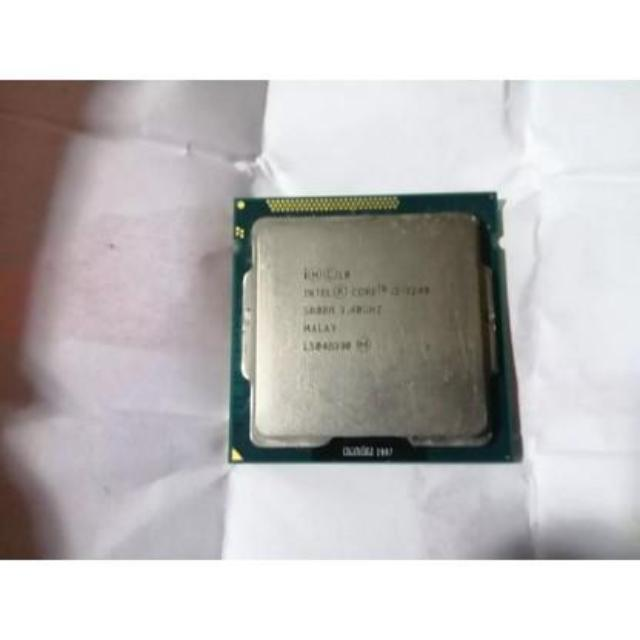CPU: (233, 195, 515, 462)
